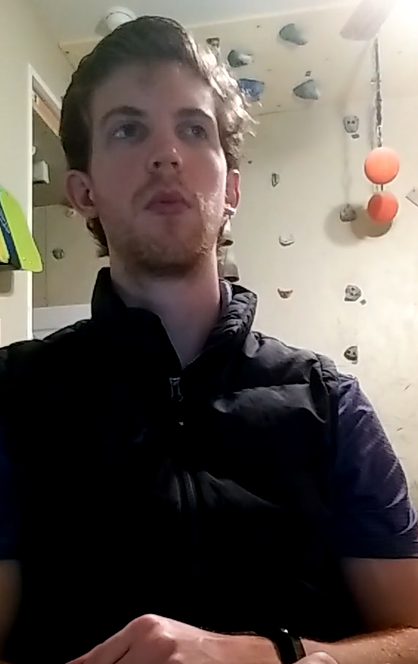Not Sleeping: (94, 104, 220, 151)
